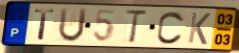5: (92, 8, 117, 44)
C: (155, 10, 186, 46)
K: (187, 11, 213, 47)
T: (124, 9, 149, 45), (33, 8, 57, 42)
U: (57, 7, 89, 44)
